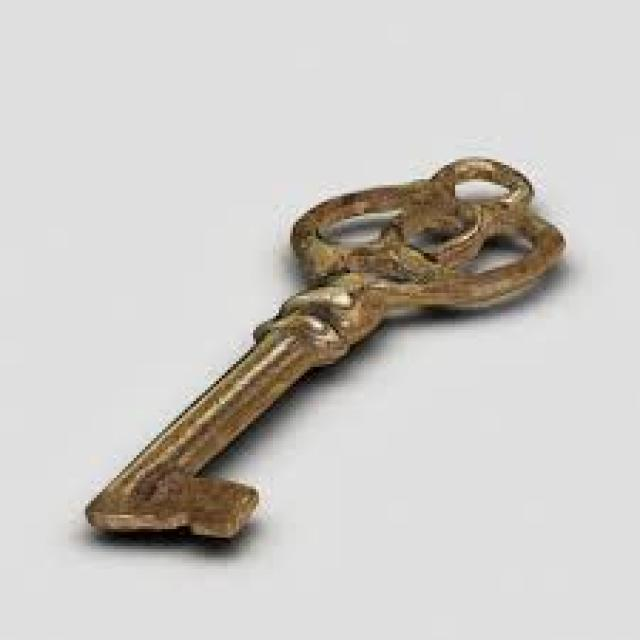key: (81, 99, 568, 604)
